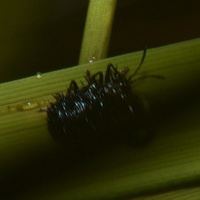insect: (0, 48, 162, 149), (47, 49, 163, 148)
